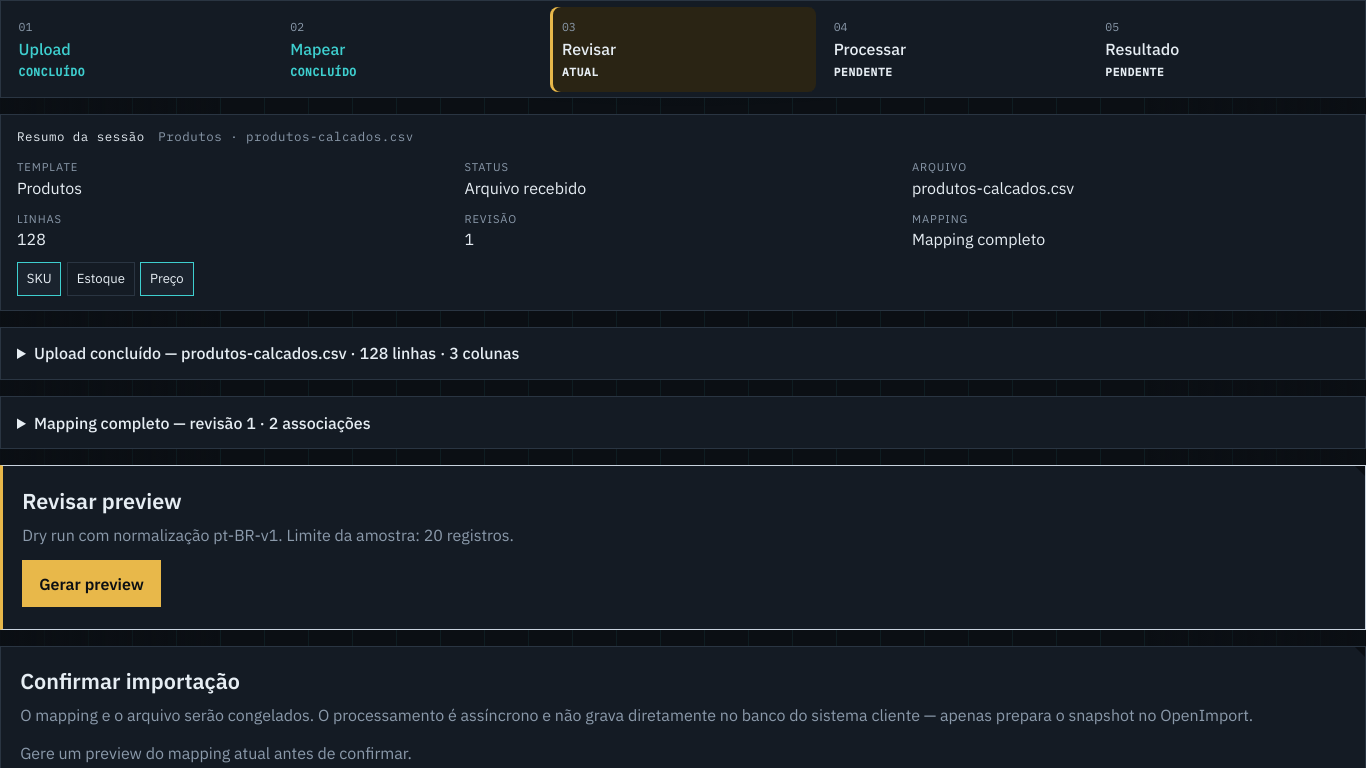
Test: import flow mutations › surfaces incompatible zod response without retrying mutation
The image size is (1366, 768).
Click the button "Gerar preview" at (92, 584), box top-left (22, 560), bottom-right (161, 607)
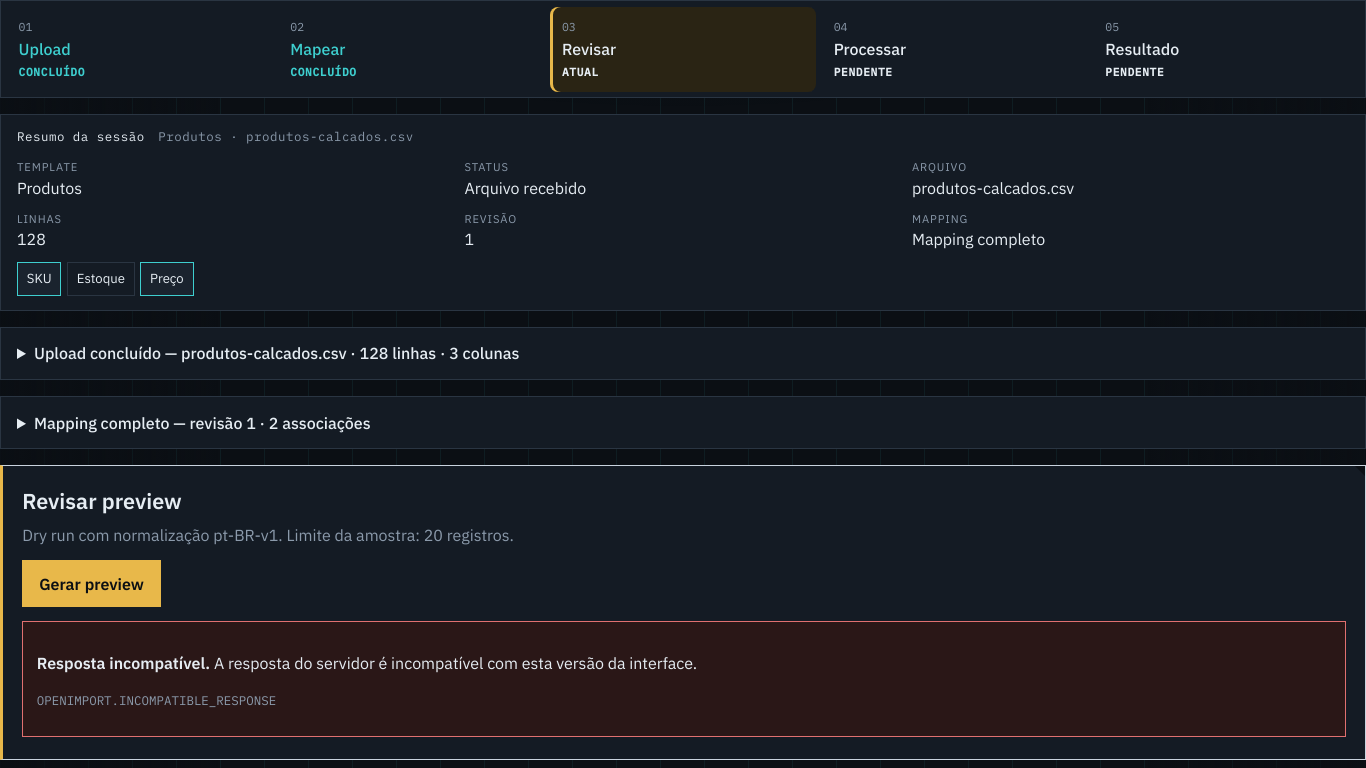
Now the message shows "incompatível", box top-left (37, 653), bottom-right (205, 673)
